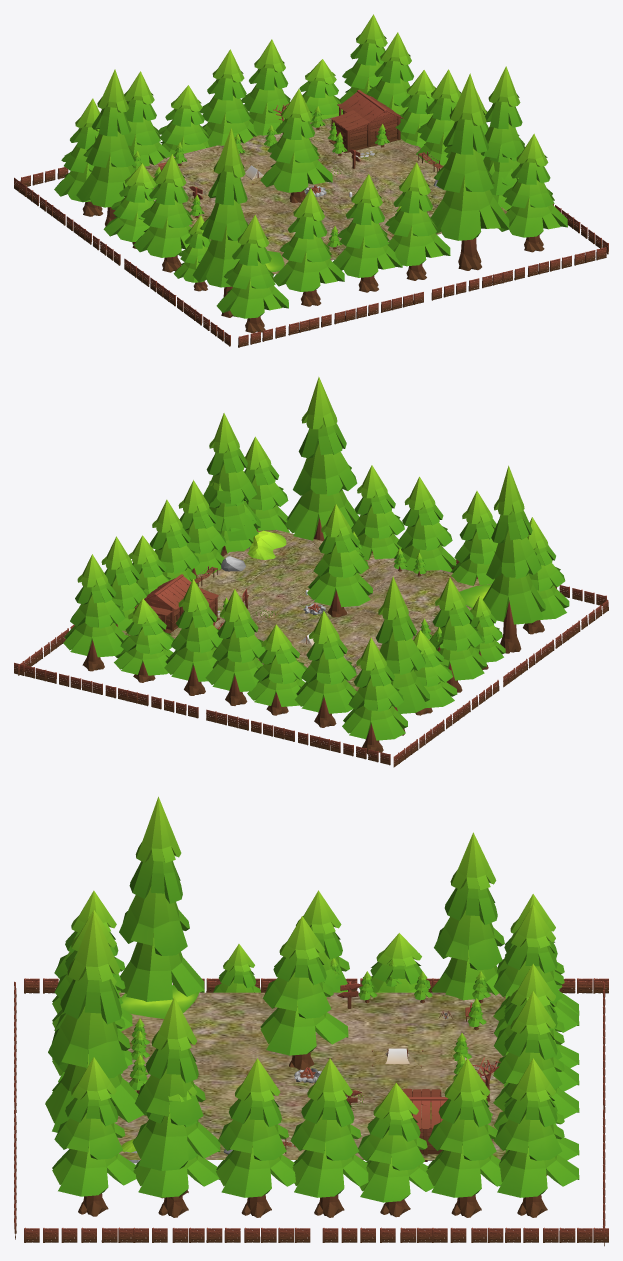
File: KAMP-mini.fbx
The picture shows the model from 3 angles, top to bottom: view 1: azimuth 30°, elevation 25°; view 2: azimuth 150°, elevation 25°; view 3: azimuth 270°, elevation 25°; orthographic projection. The views are drawn at different scales.
Parts seen in each view (by area): view 1: GROUND, Tree1__21_, Tree1__26_, Tree1__30_, Tree1__25_, Tree1__24_, Tree1__23_, Tree1__19_, Tree1__20_, Tree1__22_, Tree1__28_, Tree1__42_ (+14 smaller); view 2: GROUND, Tree1__21_, Tree1__26_, Tree1__31_, Tree1__37_, Tree1__19_, Tree1__32_, Tree1__42_, Tree1__34_, Tree1__30_, Tree1__35_, Tree1__28_ (+16 smaller); view 3: GROUND, Tree1__21_, Tree1__26_, Tree1__42_, Tree1__20_, Tree1__41_, Tree1__19_, Tree1__37_, Tree1__40_, Tree1__38_, Tree1__30_, Tree1__39_ (+14 smaller).
Boxes of the visible parts, bbox=[...] form: GROUND: bbox=[145, 116, 507, 274]; Tree1__21_: bbox=[430, 73, 509, 270]; Tree1__26_: bbox=[192, 128, 248, 317]; Tree1__30_: bbox=[76, 69, 135, 226]; Tree1__25_: bbox=[216, 215, 288, 333]; Tree1__24_: bbox=[274, 188, 344, 306]; Tree1__23_: bbox=[333, 174, 402, 292]; Tree1__19_: bbox=[260, 89, 332, 203]; Tree1__20_: bbox=[498, 133, 567, 252]; Tree1__22_: bbox=[385, 162, 450, 280]; Tree1__28_: bbox=[133, 154, 192, 272]; Tree1__42_: bbox=[481, 66, 524, 195]; GROUND: bbox=[122, 529, 491, 691]; Tree1__21_: bbox=[285, 377, 358, 540]; Tree1__26_: bbox=[483, 465, 545, 653]; Tree1__31_: bbox=[342, 637, 407, 754]; Tree1__37_: bbox=[63, 554, 127, 671]; Tree1__19_: bbox=[307, 504, 372, 617]; Tree1__32_: bbox=[294, 610, 357, 727]; Tree1__42_: bbox=[203, 413, 260, 556]; Tree1__34_: bbox=[205, 589, 266, 705]; Tree1__30_: bbox=[376, 576, 429, 735]; Tree1__35_: bbox=[164, 578, 222, 695]; Tree1__28_: bbox=[429, 577, 486, 692]; GROUND: bbox=[114, 992, 505, 1159]; Tree1__21_: bbox=[45, 912, 146, 1132]; Tree1__26_: bbox=[119, 796, 204, 1001]; Tree1__42_: bbox=[132, 997, 220, 1200]; Tree1__20_: bbox=[52, 1057, 136, 1216]; Tree1__41_: bbox=[216, 1058, 295, 1217]; Tree1__19_: bbox=[260, 916, 348, 1069]; Tree1__37_: bbox=[493, 1058, 579, 1217]; Tree1__40_: bbox=[290, 1058, 368, 1217]; Tree1__38_: bbox=[426, 1058, 502, 1217]; Tree1__30_: bbox=[431, 832, 508, 1000]; Tree1__39_: bbox=[358, 1083, 434, 1217].
Bounding box in the file's own units: 7585 × 3871 × 7511.
